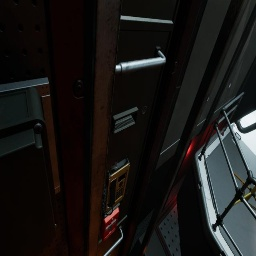EmergencyPhone ,: (102, 155, 130, 215)
FireAlarm ,: (101, 207, 119, 242)
